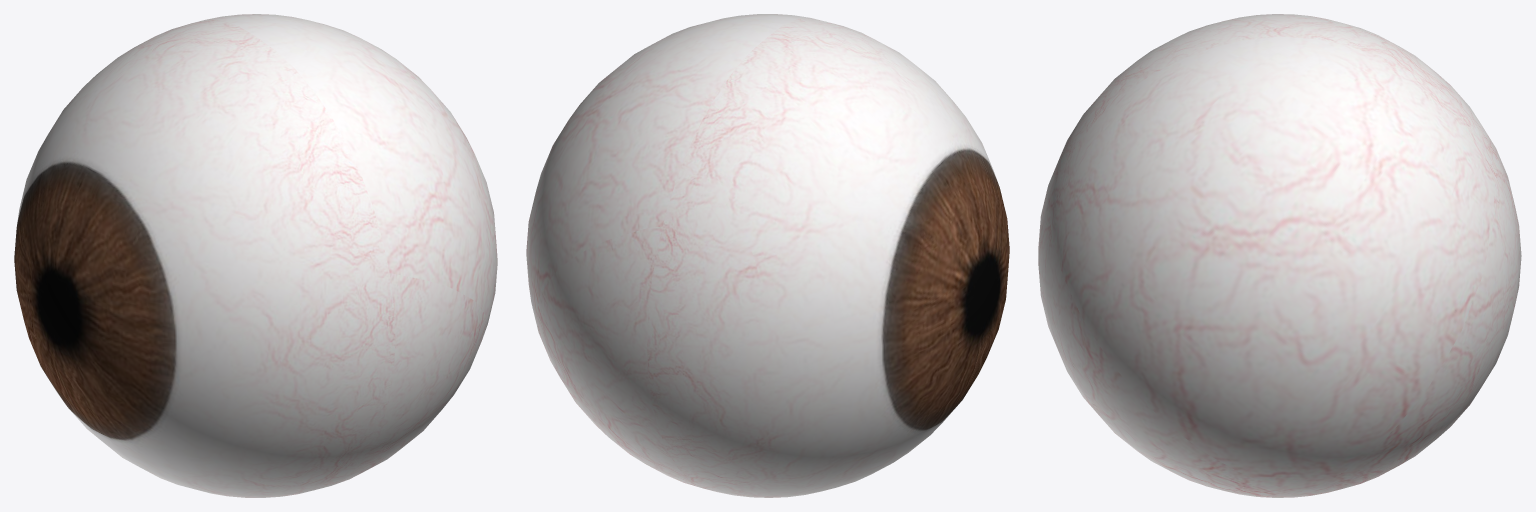
The model's file is eye.fbx.
3 views of the same model, side by side, from view 1: azimuth 30°, elevation 25°; view 2: azimuth 150°, elevation 25°; view 3: azimuth 270°, elevation 25° (orthographic).
Visible parts, largest first — view 1: Sphere; view 2: Sphere; view 3: Sphere.
Boxes of the visible parts, left/top/right/bottom form: Sphere: left=14, top=14, right=497, bottom=497; Sphere: left=526, top=14, right=1009, bottom=497; Sphere: left=1038, top=14, right=1521, bottom=497.
Size of the model in its own units: 200 by 200 by 200.
